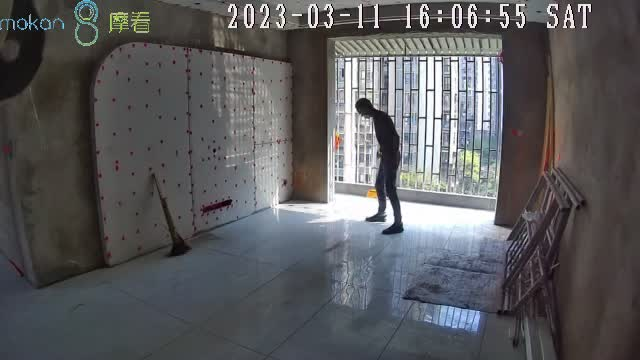people: (353, 98, 405, 235)
window: (341, 53, 500, 196)
